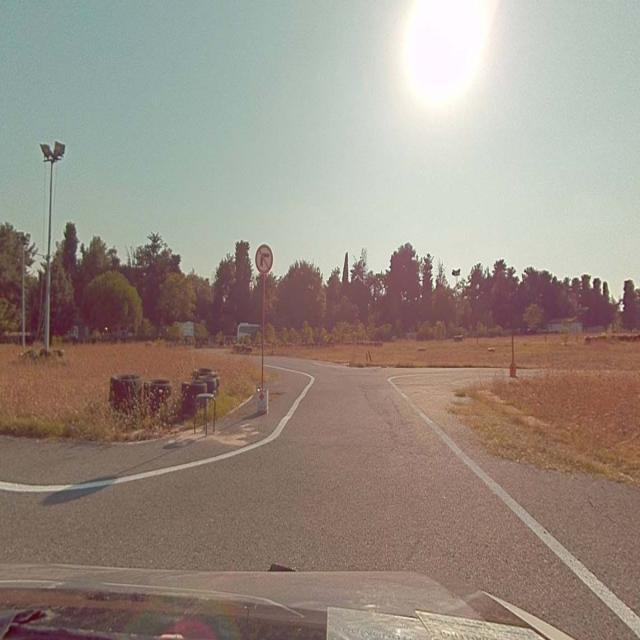sagadonulmez: (256, 243, 273, 273)
